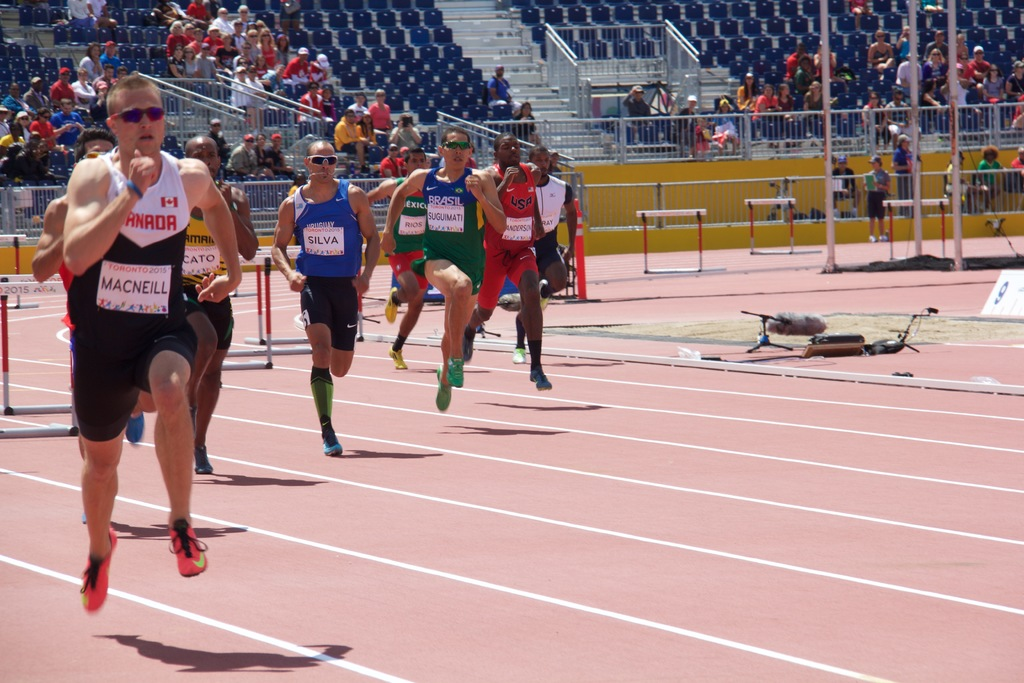Person: (0, 0, 1024, 615)
